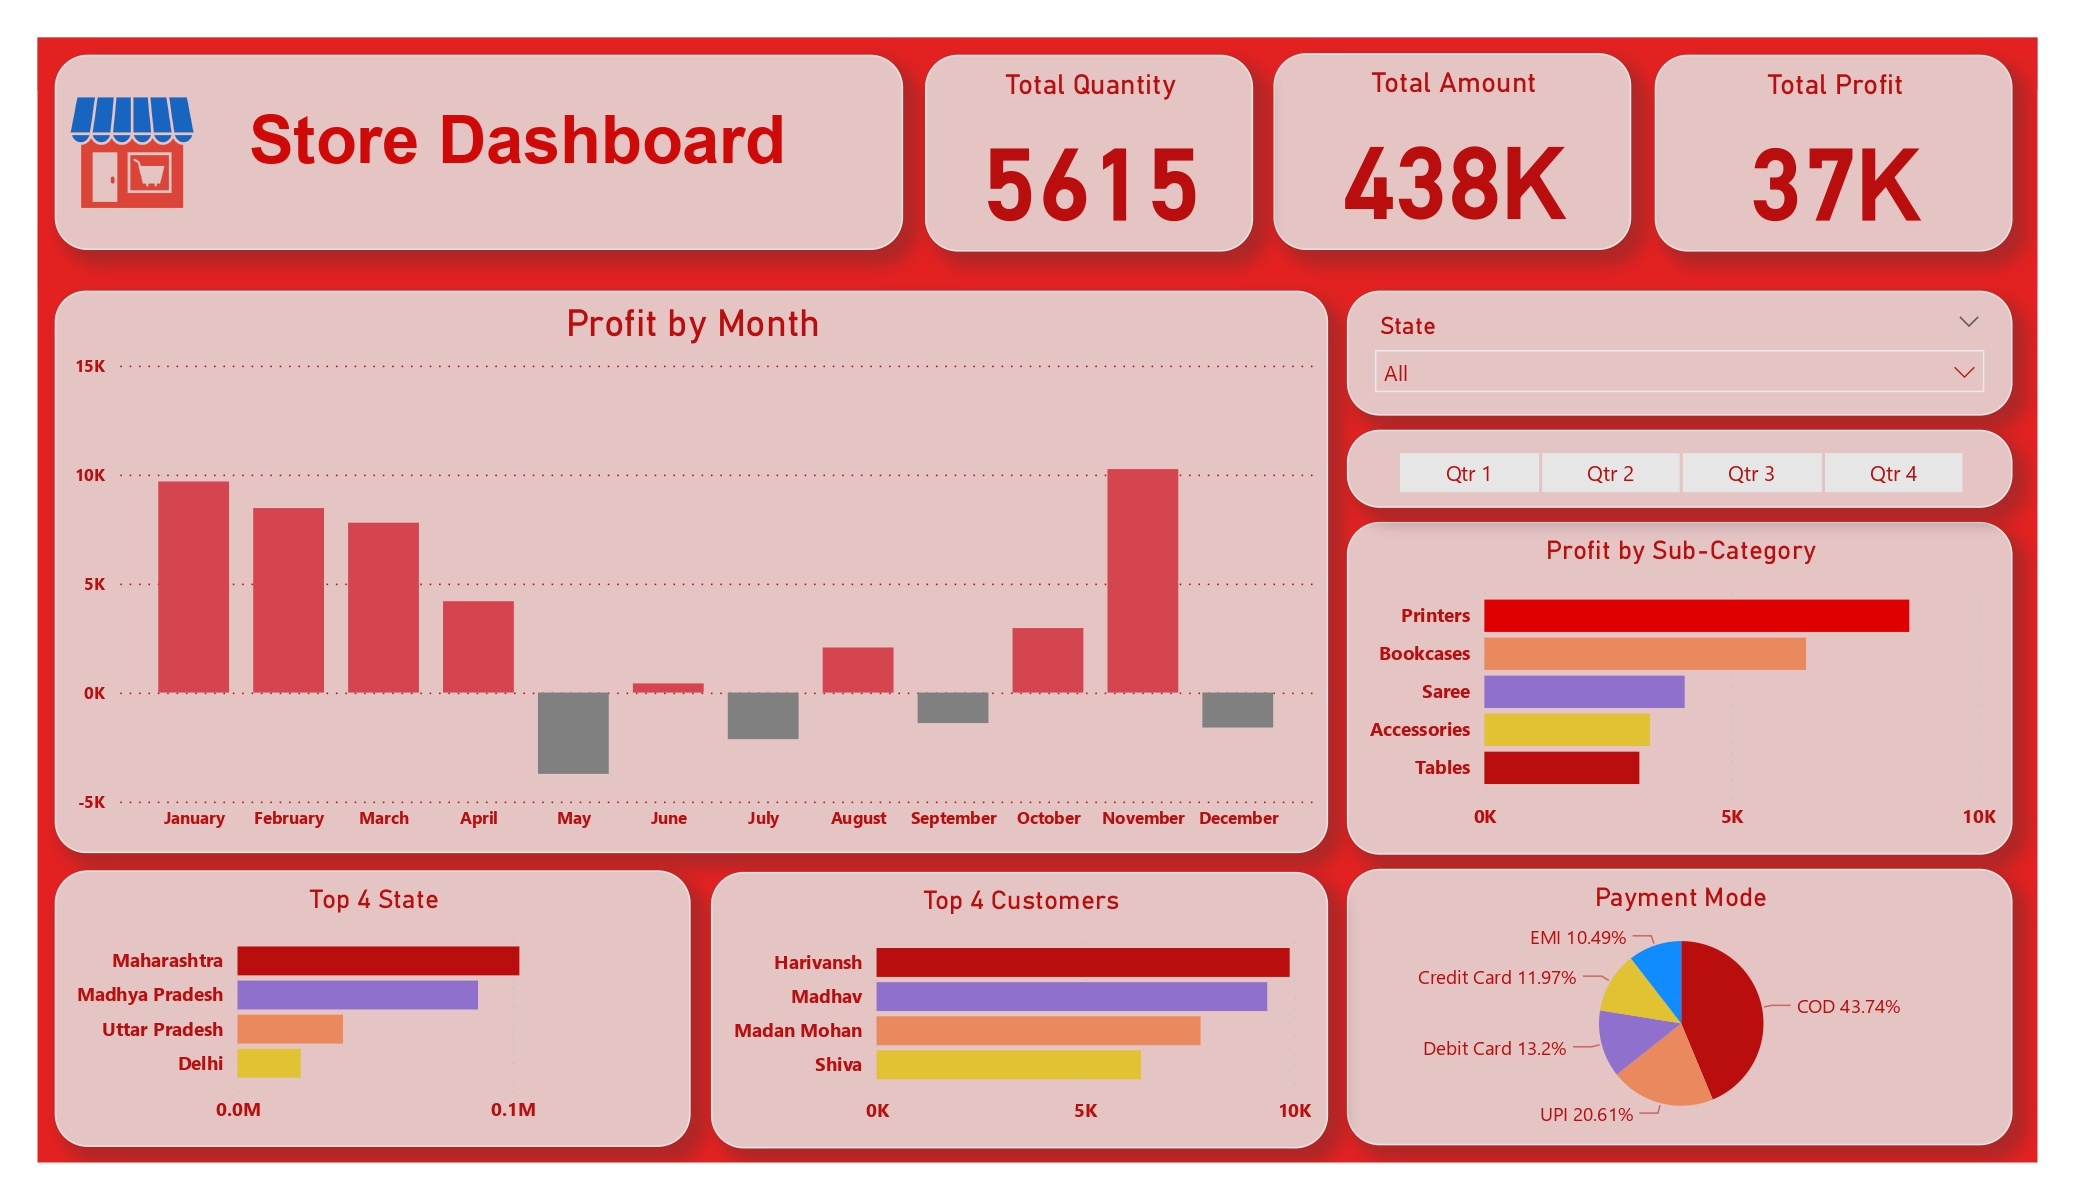

What the dashboard file says about the page in this screenshot:
{"tool":"powerbi","page":{"name":"Page 1","canvas":[1280,720],"ordinal":0},"visuals":[{"type":"textbox","box":[11,11,543.4,124.9],"z":0},{"type":"image","box":[10.9,21.7,98.9,102.5],"z":1000},{"type":"columnChart","title":"Profit by Month","fields":{"Y":["Details.Profit"],"Category":["Orders.Order Date.Variation.Date Hierarchy.Month"]},"box":[10.9,161.6,815.3,360.6],"z":2000},{"type":"card","title":"Total Profit","fields":{"Values":["Details.Profit"]},"box":[1034.8,10.9,229.1,126.6],"z":3000},{"type":"card","title":"Total Amount","fields":{"Values":["Details.Amount"]},"box":[791.2,9.6,229.1,126.6],"z":4000},{"type":"card","title":"Total Quantity","fields":{"Values":["Details.Quantity"]},"box":[568.1,11,209.9,126.2],"z":5000},{"type":"barChart","title":"Profit by Sub-Category","fields":{"Y":["Details.Profit"],"Category":["Details.Sub-Category"]},"box":[838.4,310.1,425.4,212.7],"z":6000},{"type":"barChart","title":"Top 4 State","fields":{"Y":["Details.Amount"],"Category":["Orders.State"]},"box":[10.9,533.1,407.6,177.3],"z":7000},{"type":"pieChart","title":"Payment Mode","fields":{"Y":["Details.Quantity"],"Category":["Details.PaymentMode"]},"box":[838.4,532.4,425.4,177],"z":8000},{"type":"barChart","title":"Top 4 Customers","fields":{"Y":["Details.Amount"],"Category":["Orders.CustomerName"]},"box":[430.9,533.8,395.2,177],"z":9000},{"type":"slicer","fields":{"Values":["Orders.State"]},"box":[838.4,161.9,425.4,79.6],"z":10000},{"type":"slicer","fields":{"Values":["Orders.Order Date.Variation.Date Hierarchy.Quarter"]},"box":[838.4,251.1,425.4,49.4],"z":11000}]}

Visuals, with their boxes on the page's 1280x720 design canvas (x1, y1, x2, y2). These are canvas units, not pixel positions in the 2075x1200 screenshot, which may show the page scaled, cropped or inside an application window:
textbox: detection(11, 11, 554, 136)
image: detection(11, 22, 110, 124)
"Profit by Month" columnChart: detection(11, 162, 826, 522)
"Total Profit" card: detection(1035, 11, 1264, 138)
"Total Amount" card: detection(791, 10, 1020, 136)
"Total Quantity" card: detection(568, 11, 778, 137)
"Profit by Sub-Category" barChart: detection(838, 310, 1264, 523)
"Top 4 State" barChart: detection(11, 533, 418, 710)
"Payment Mode" pieChart: detection(838, 532, 1264, 709)
"Top 4 Customers" barChart: detection(431, 534, 826, 711)
slicer - Orders.State: detection(838, 162, 1264, 242)
slicer - Orders.Order Date.Variation.Date Hierarchy.Quarter: detection(838, 251, 1264, 300)
